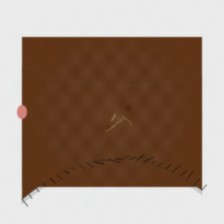corneal_ulcer: (88, 92, 145, 137)
